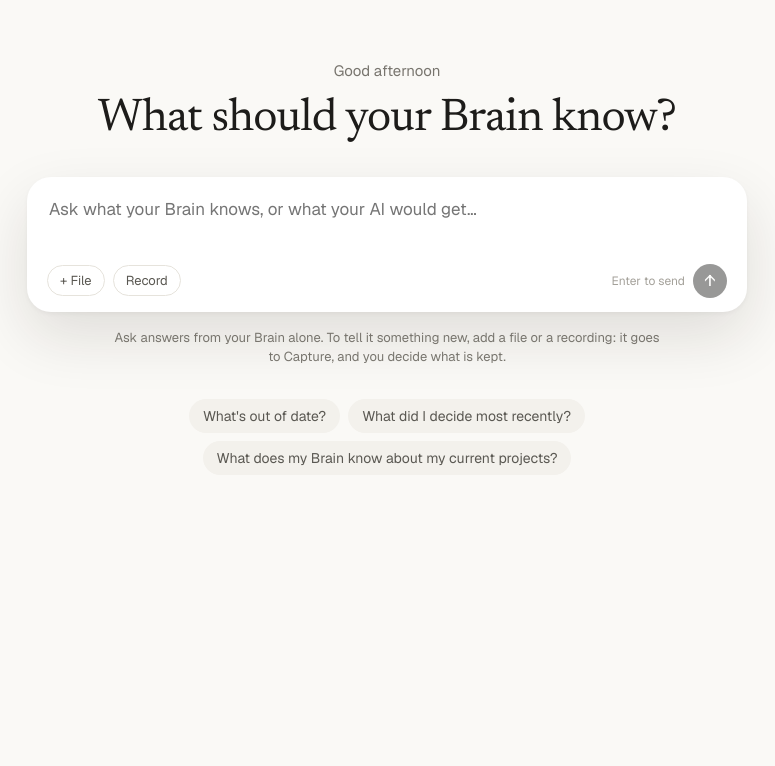
Test case: Ask › shows the answer's Markdown as formatting, not as asterisks
Type "When?" into the text box named "Your question". click: (387, 222)
box: [47, 195, 727, 250]
Then press Enter
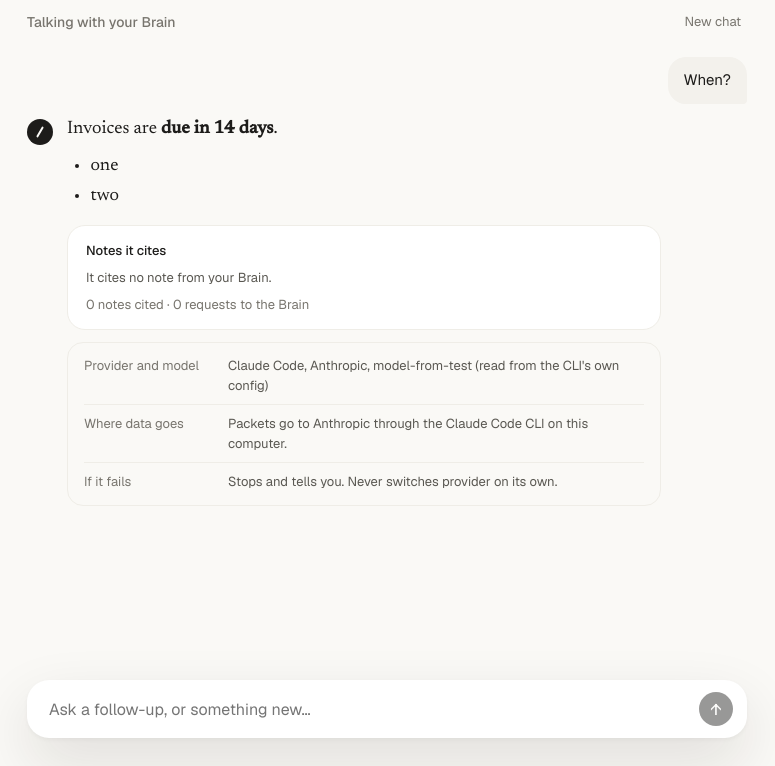
Expected: the number of list items is 2, [90, 157, 118, 175]; [90, 187, 119, 205]
